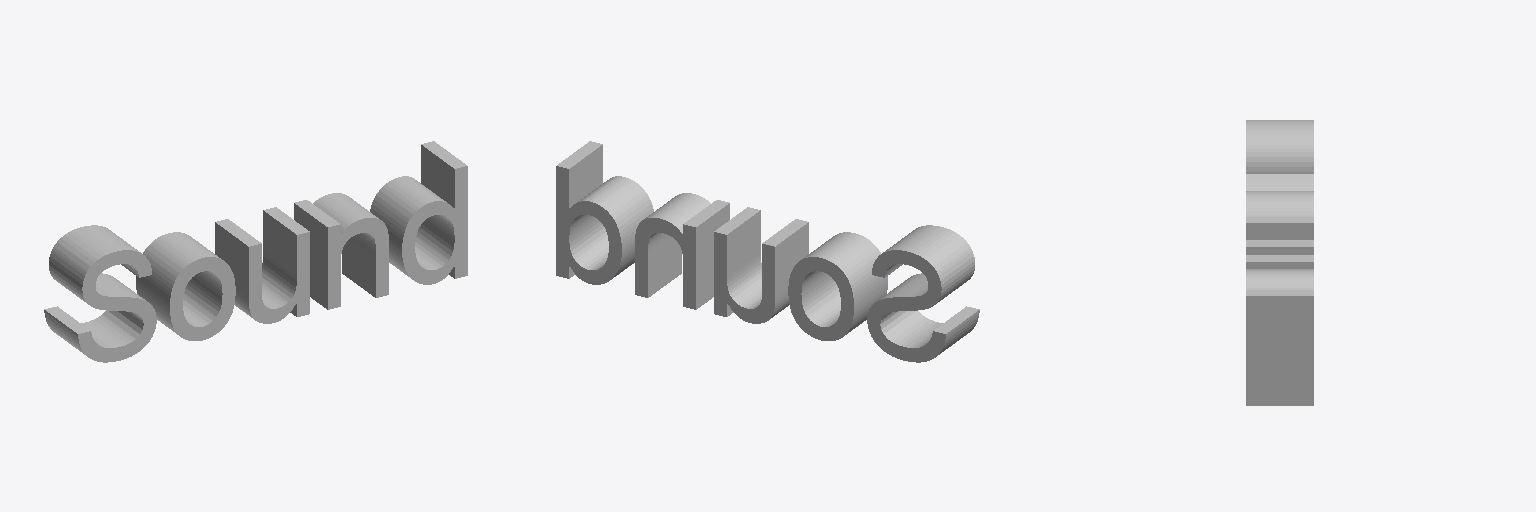
File: Sound_text.obj
The picture shows the model from 3 angles: view 1: azimuth 30°, elevation 25°; view 2: azimuth 150°, elevation 25°; view 3: azimuth 270°, elevation 25°; orthographic projection.
Parts seen in each view (by area): view 1: curve1; view 2: curve1; view 3: curve1.
Part boxes in pixels (x1,y1,x2,y2): curve1: (44,141,467,362); curve1: (556,141,979,362); curve1: (1246,120,1313,405).
Bounding box in the file's own units: 4.17 × 1.13 × 0.6267.